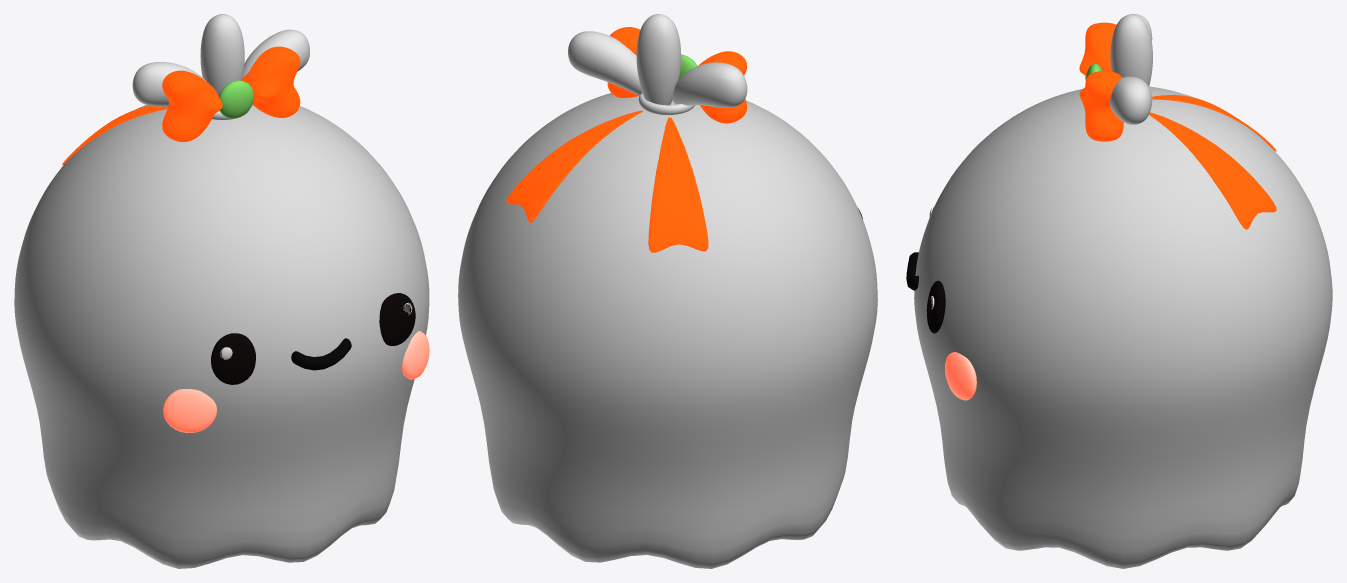
File: 水蓝蓝.fbx
3 renders of one model, left to right at view 1: azimuth 30°, elevation 25°; view 2: azimuth 150°, elevation 25°; view 3: azimuth 270°, elevation 25°, orthographic.
Parts seen in each view (by area): view 1: 球体.001, 立方体.001, 立方体, 球体.002, 球体.007, 球体.010, 圆环, 球体.011; view 2: 球体.001, 立方体, 球体.011, 立方体.001, 圆环.001; view 3: 球体.001, 球体.011, 立方体, 立方体.001, 球体.007, 球体.002.
Boxes of the visible parts, x1,y1,x2,y2 form: 球体.001: (14, 105, 429, 568); 立方体.001: (162, 46, 300, 141); 立方体: (132, 14, 309, 106); 球体.002: (211, 293, 415, 384); 球体.007: (163, 331, 429, 432); 球体.010: (219, 80, 253, 118); 圆环: (291, 338, 351, 370); 球体.011: (62, 105, 167, 164); 球体.001: (458, 93, 877, 568); 立方体: (568, 14, 747, 107); 球体.011: (506, 110, 708, 252); 立方体.001: (607, 27, 747, 123); 圆环.001: (638, 93, 694, 114); 球体.001: (914, 86, 1332, 568); 球体.011: (1149, 95, 1276, 229); 立方体: (1109, 14, 1152, 124); 立方体.001: (1079, 22, 1123, 141); 球体.007: (945, 352, 976, 400); 球体.002: (926, 208, 945, 333).
Size of the model in its own units: 221 by 284 by 225.
